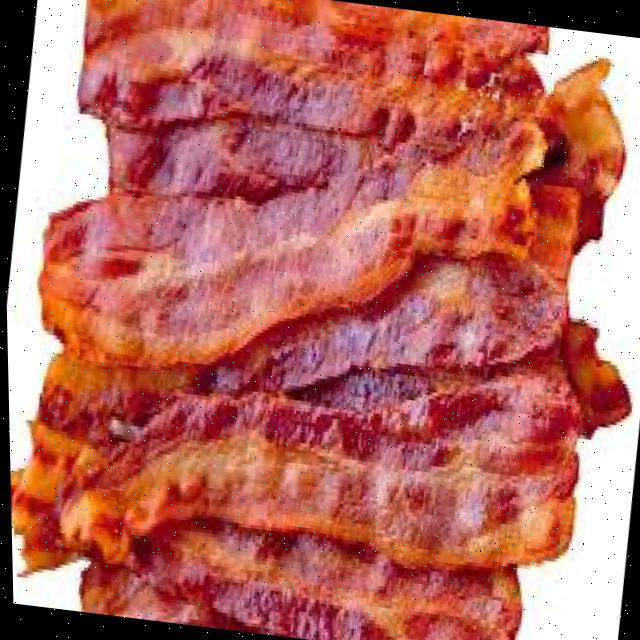Bacon: (77, 0, 546, 240), (38, 167, 533, 364), (56, 396, 574, 563), (77, 521, 517, 640), (256, 261, 565, 389)
